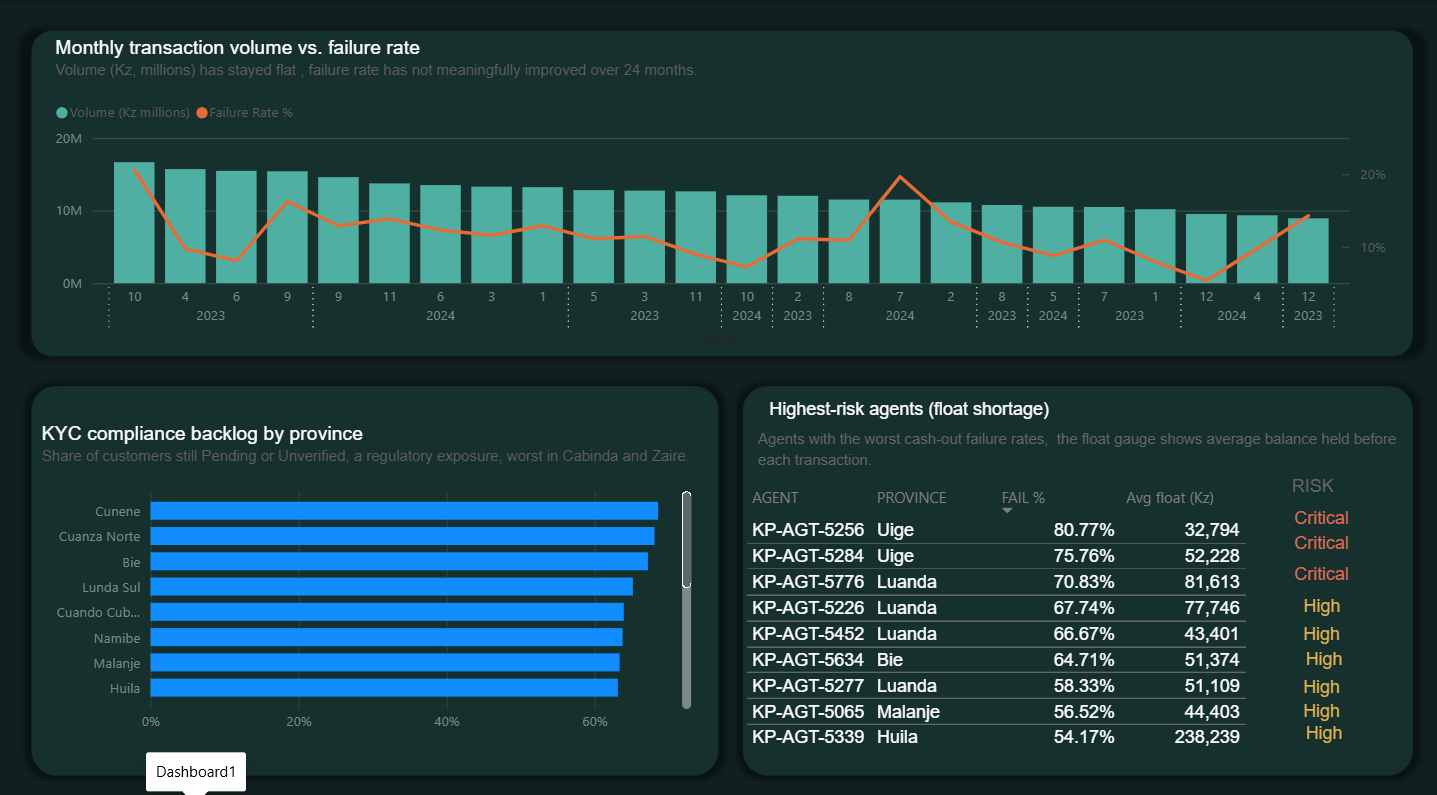

The page's visual inventory and layout, read from the dashboard file:
{"tool":"powerbi","page":{"name":"Dashboard1","canvas":[1280,720],"ordinal":1},"visuals":[{"type":"lineStackedColumnComboChart","title":"Monthly transaction volume vs. failure rate","fields":{"Category":["fTransation.Year","fTransation.Month"],"Y2":["Metrics.Overal Failure Rate"],"Y":["Metrics.Dinheiro"]},"box":[45.4,32.6,1195.4,280.2],"z":0,"group":"g1"},{"type":"barChart","title":"KYC compliance backlog by province","fields":{"Category":["dCustumer.Customer_Province"],"Y":["Metrics.% KYC"]},"box":[32.6,376.8,588.4,283.7],"z":1000,"group":"g1"},{"type":"tableEx","fields":{"Values":["dAgent.Agent_ID","dAgent.Agent_Province","Metrics.Approval Rate","Metrics.Avg Float Balance"]},"box":[658.9,427,591.9,262.8],"z":2000,"group":"g1"},{"type":"textbox","box":[1145.8,418.5,94.7,39.8],"z":4000},{"type":"textbox","box":[1130.7,525.6,94.7,31.6],"z":5000,"group":"g1"},{"type":"textbox","box":[1122.5,447.4,109.8,42.5],"z":6000,"group":"g1"},{"type":"textbox","box":[1122.5,598.3,109.8,42.5],"z":7000},{"type":"textbox","box":[1122.5,551.7,109.8,42.5],"z":8000,"group":"g1"},{"type":"textbox","box":[1122.5,618.9,109.8,42.5],"z":9000,"group":"g1"},{"type":"textbox","box":[1123.8,639.5,109.8,42.5],"z":10000},{"type":"textbox","box":[1122.5,469.3,109.8,42.5],"z":11000},{"type":"textbox","box":[1122.5,498.2,109.8,42.5],"z":12000,"group":"g1"},{"type":"textbox","box":[1123.8,573.6,109.8,35.7],"z":13000},{"type":"textbox","box":[680.3,351.2,322.1,46.5],"z":14000,"group":"g1"},{"type":"textbox","box":[671,376.8,609.3,81.4],"z":15000,"group":"g1"},{"type":"group","id":"g1","title":"Group 1","box":[32.6,32.6,1247.7,657.2],"z":15001}]}

Visuals, with their boxes on the page's 1280x720 design canvas (x1, y1, x2, y2). These are canvas units, not pixel positions in the 1437x795 screenshot, which may show the page scaled, cropped or inside an application window:
"Monthly transaction volume vs. failure rate" lineStackedColumnComboChart: (left=45, top=33, right=1241, bottom=313)
"KYC compliance backlog by province" barChart: (left=33, top=377, right=621, bottom=660)
tableEx - dAgent.Agent_ID x dAgent.Agent_Province: (left=659, top=427, right=1251, bottom=690)
textbox: (left=1146, top=418, right=1240, bottom=458)
textbox: (left=1131, top=526, right=1225, bottom=557)
textbox: (left=1122, top=447, right=1232, bottom=490)
textbox: (left=1122, top=598, right=1232, bottom=641)
textbox: (left=1122, top=552, right=1232, bottom=594)
textbox: (left=1122, top=619, right=1232, bottom=661)
textbox: (left=1124, top=640, right=1234, bottom=682)
textbox: (left=1122, top=469, right=1232, bottom=512)
textbox: (left=1122, top=498, right=1232, bottom=541)
textbox: (left=1124, top=574, right=1234, bottom=609)
textbox: (left=680, top=351, right=1002, bottom=398)
textbox: (left=671, top=377, right=1280, bottom=458)
"Group 1" group: (left=33, top=33, right=1280, bottom=690)
